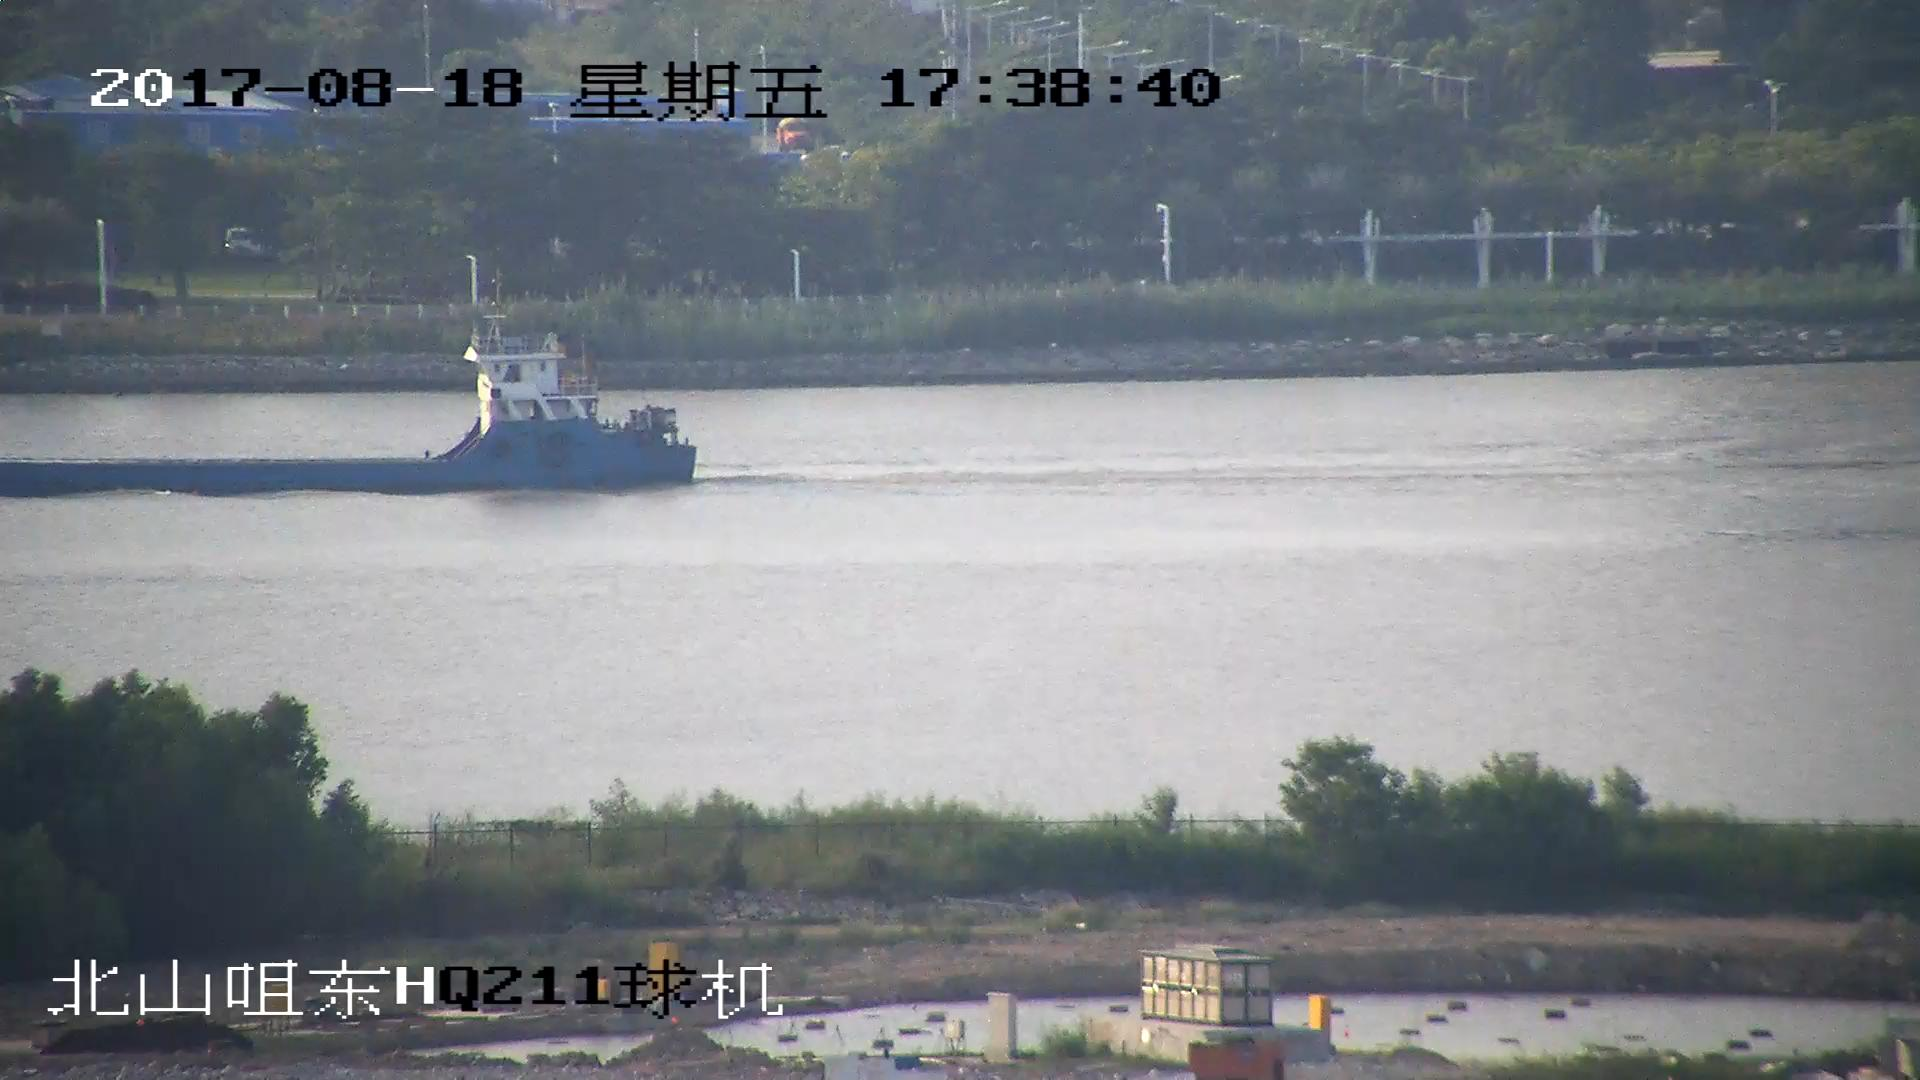general cargo ship: (1, 258, 702, 501)
